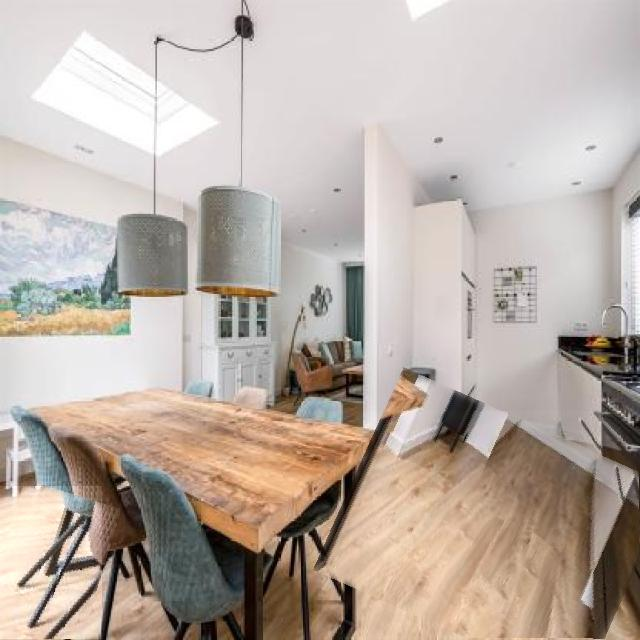floor: (313, 412, 593, 639), (0, 487, 102, 640), (63, 537, 183, 640)
